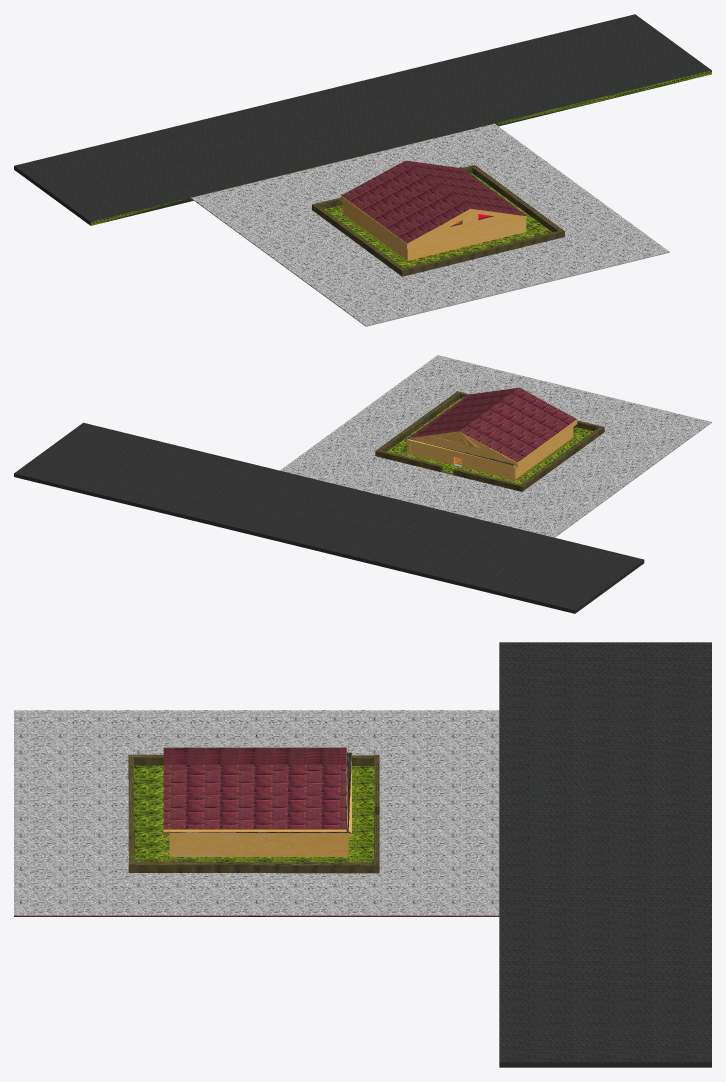
The model's file is home.glb.
The picture shows the model from 3 angles, top to bottom: view 1: azimuth 30°, elevation 25°; view 2: azimuth 150°, elevation 25°; view 3: azimuth 270°, elevation 25°; orthographic projection. The views are drawn at different scales.
Parts seen in each view (by area): view 1: CSGCombiner3D2; view 2: CSGCombiner3D2; view 3: CSGCombiner3D2.
Part boxes in pixels (left/top/right/bottom): CSGCombiner3D2: left=14, top=14, right=711, bottom=326; CSGCombiner3D2: left=14, top=355, right=711, bottom=613; CSGCombiner3D2: left=14, top=642, right=711, bottom=1067.
Size of what is drawn, in the model's own units: 164 by 15.4 by 115.
Materials: 10 (9 with a texture image).
